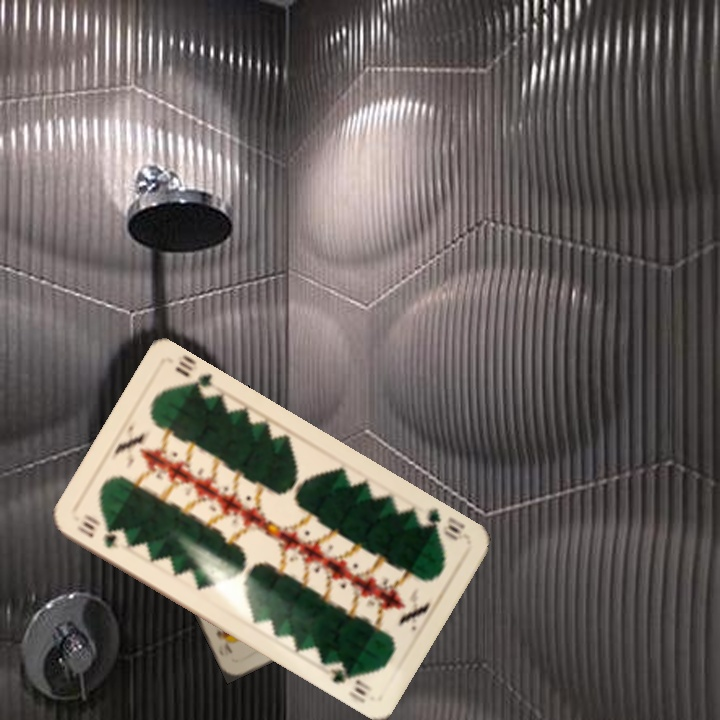G10: (412, 503, 470, 543), (72, 512, 121, 551)
